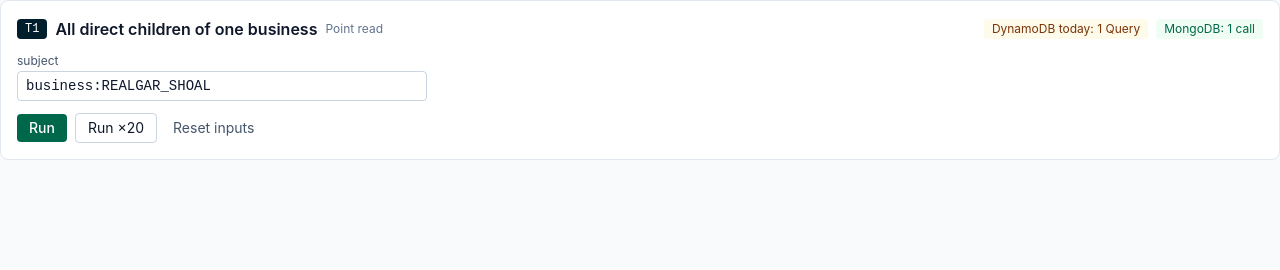
QueryCard › shows a mismatch and n/a when scaled
This screenshot has width=1280, height=270.
Step 1. Click the button "Run" → point(42, 128), box 17,114 -> 67,142
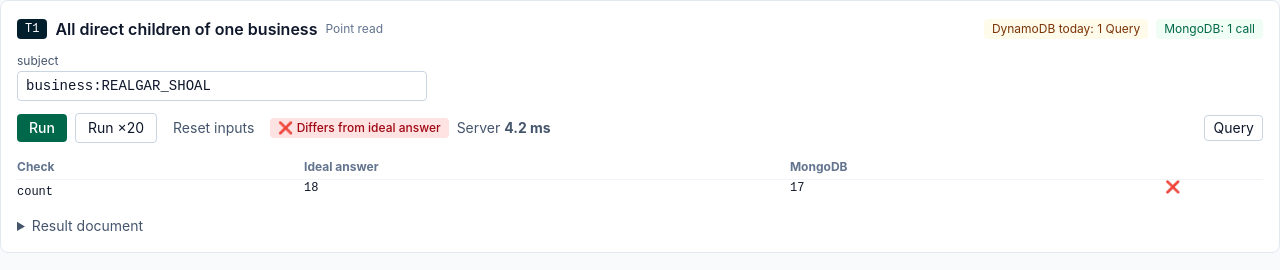
Check: the text "❌ Differs from ideal answer" is shown, box 270,118 -> 449,138
Step 2. Click the button "Run" → point(42, 128), box 17,114 -> 67,142
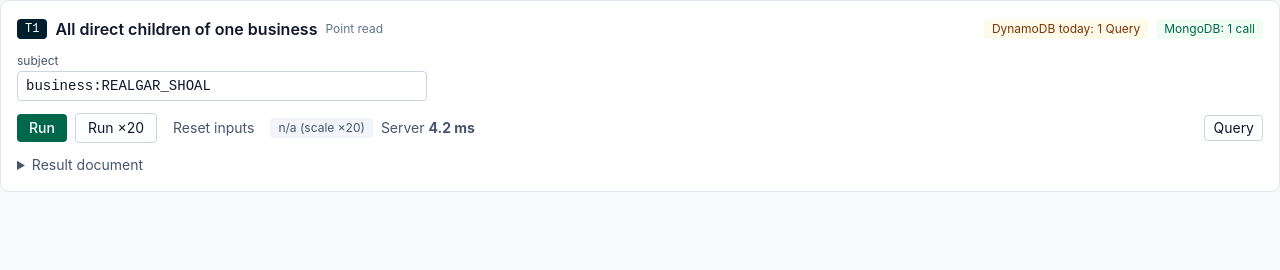
Check: the text "n/a (scale ×20)" is shown, box 270,118 -> 373,138
